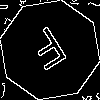F: (25, 25, 75, 79)
